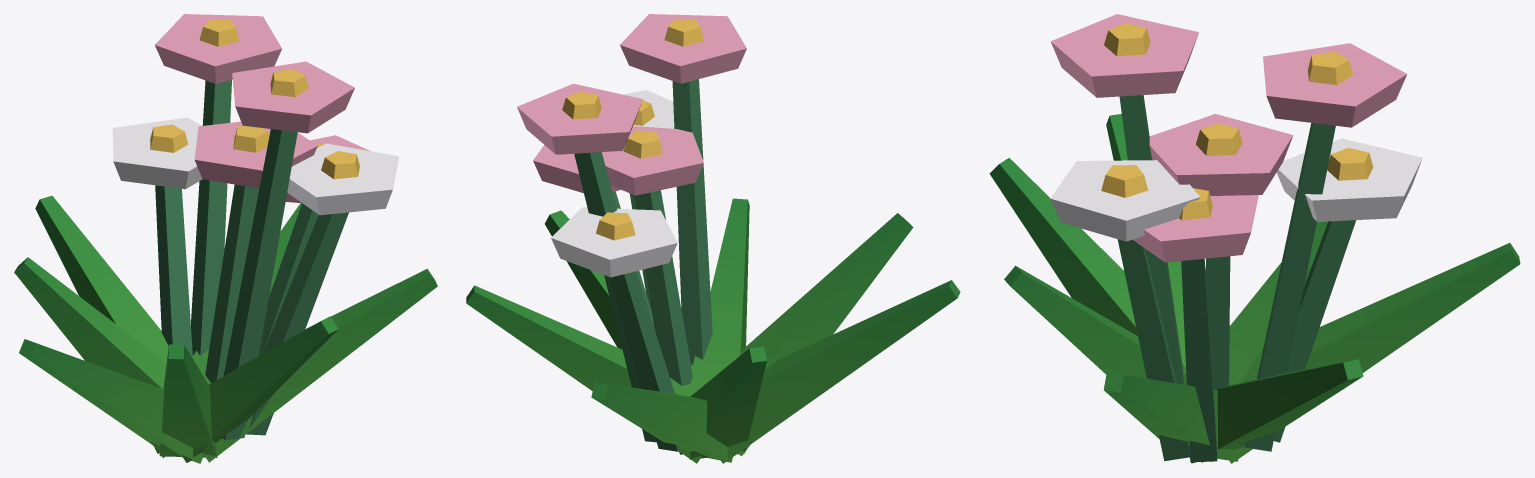
File: flowers_pink.2805d0beb9.gltf
The picture shows the model from 3 angles, left to right: view 1: azimuth 30°, elevation 25°; view 2: azimuth 150°, elevation 25°; view 3: azimuth 270°, elevation 25°; orthographic projection. The views are drawn at different scales.
Parts seen in each view (by area): view 1: flowers_pink; view 2: flowers_pink; view 3: flowers_pink.
Boxes of the visible parts, x1,y1,x2,y2 form: flowers_pink: [14, 14, 437, 463]; flowers_pink: [466, 14, 960, 463]; flowers_pink: [989, 14, 1520, 463].
Bounding box in the file's own units: 0.4994 × 0.4446 × 0.4706.
Materials: 1 (1 with a texture image).
